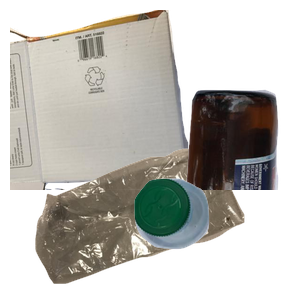cardboard: (10, 10, 191, 190)
glass: (87, 87, 300, 267)
plastic: (132, 176, 300, 300)
trash: (33, 145, 270, 300)
